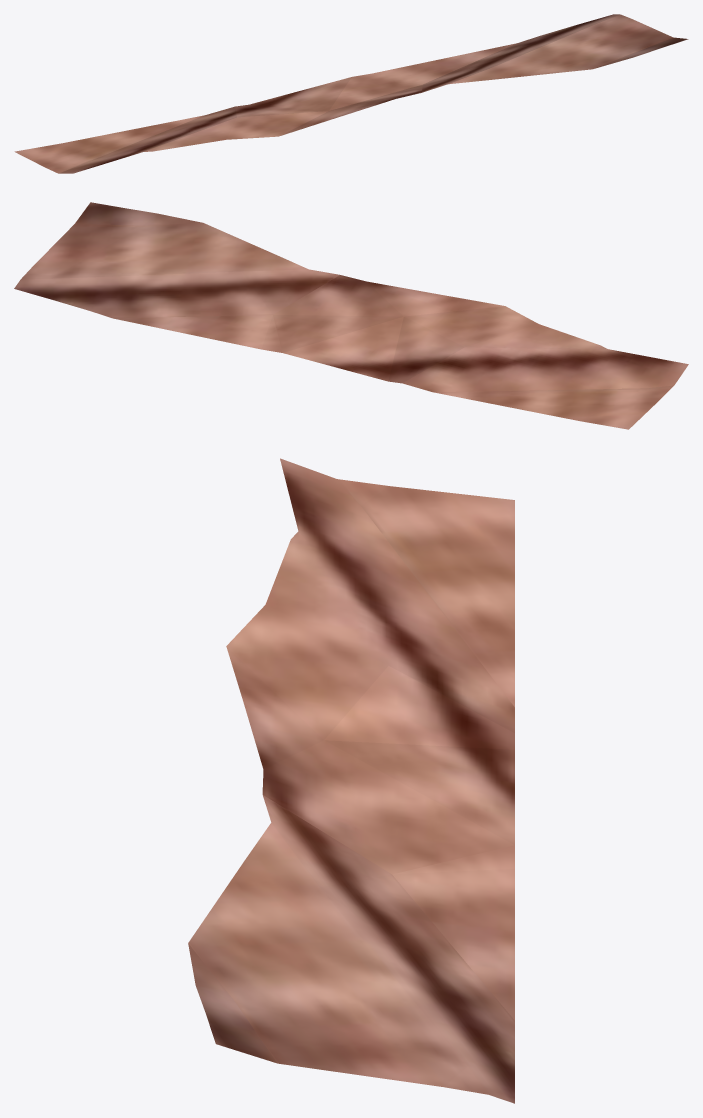
3 views of the same model, one above another, from view 1: azimuth 30°, elevation 25°; view 2: azimuth 150°, elevation 25°; view 3: azimuth 270°, elevation 25° (orthographic). The views are drawn at different scales.
Size of the model in its own units: 1.67 by 0.0939 by 0.3947.
1 material, 1 textured.
